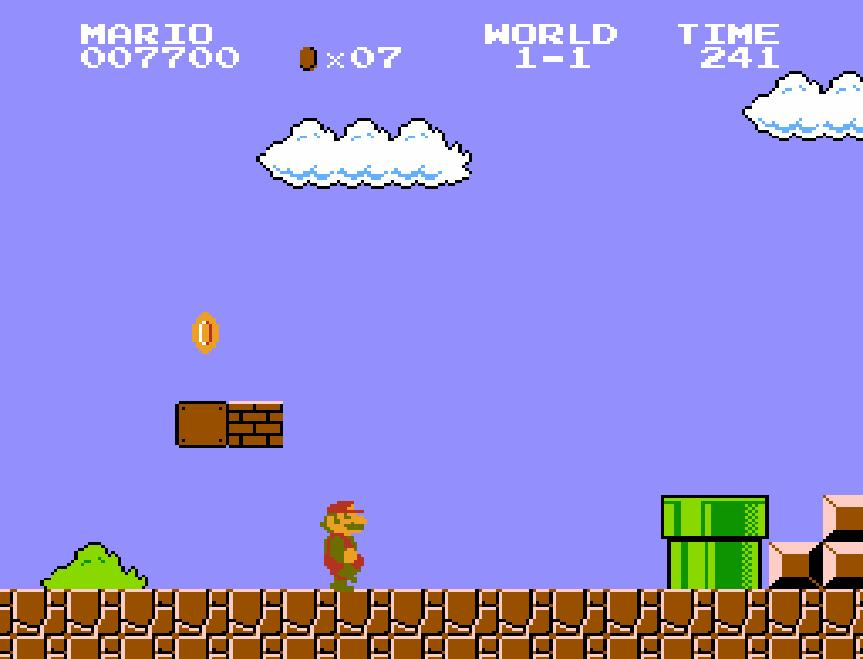big_mario: (314, 496, 372, 594)
